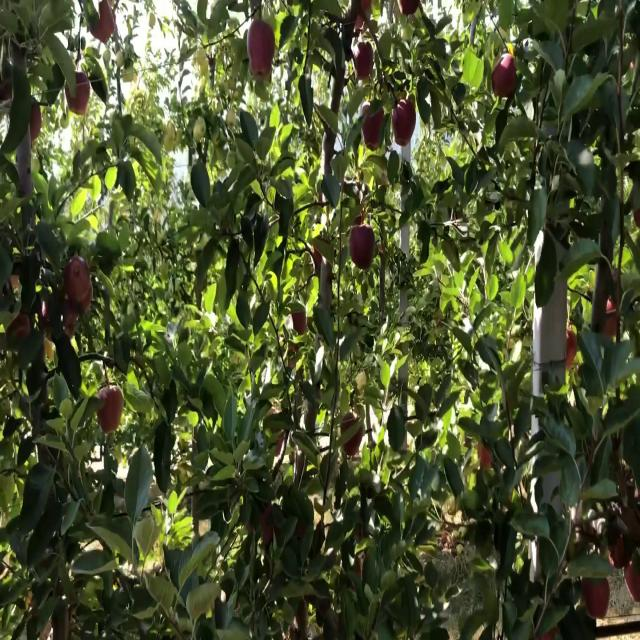apple: (247, 18, 275, 80), (490, 51, 521, 98), (96, 381, 123, 434), (349, 220, 376, 272), (88, 0, 117, 44), (361, 98, 385, 151), (393, 98, 417, 149), (581, 575, 609, 618), (66, 68, 90, 116), (66, 256, 90, 299), (342, 413, 364, 459), (352, 38, 376, 79), (625, 560, 640, 604), (30, 94, 43, 141)
